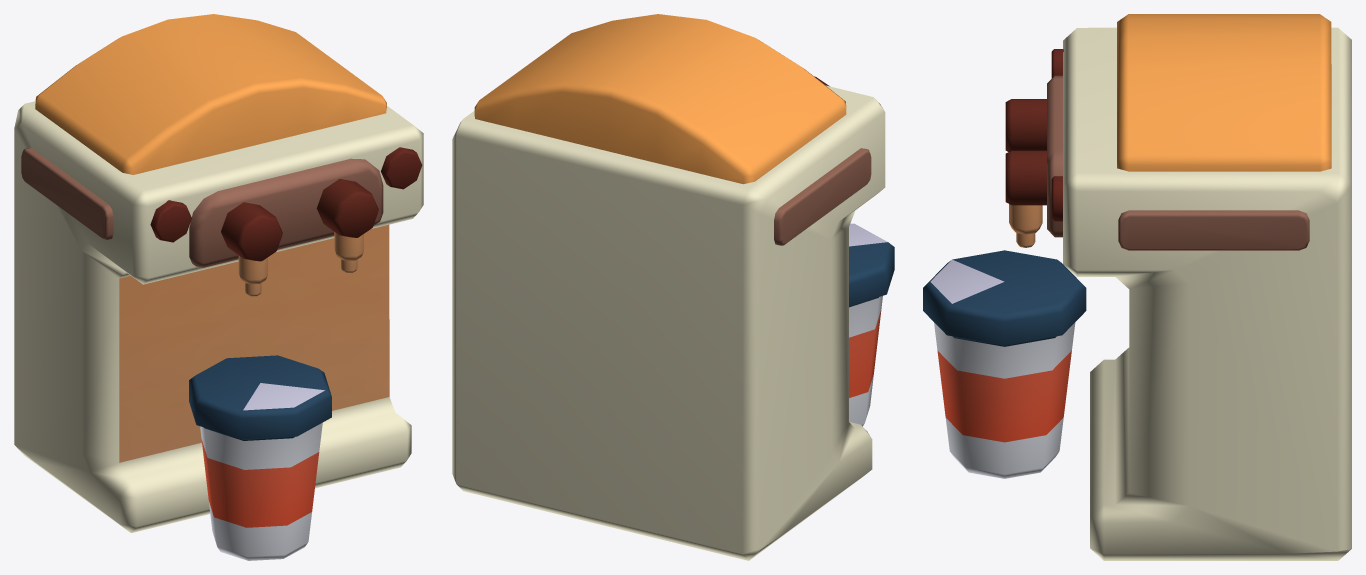
Rendered from water_machine_and_cup.fbx.
3 views of the same model, side by side, from view 1: azimuth 30°, elevation 25°; view 2: azimuth 150°, elevation 25°; view 3: azimuth 270°, elevation 25° (orthographic). The views are drawn at different scales.
Visible parts, largest first — view 1: pasted__cocktail_03, duplicated_01, coffee_cup, pasted__cocktail_02, pasted__cocktail_15, pasted__cocktail_13, pasted__cocktail_18, pasted__cocktail_19, pasted__cocktail_17, pasted__cocktail_21, mirrored_x_3; view 2: pasted__cocktail_03, duplicated_01, coffee_cup, pasted__cocktail_15; view 3: pasted__cocktail_03, duplicated_01, coffee_cup, pasted__cocktail_08, pasted__cocktail_18, pasted__cocktail_13, pasted__cocktail_02, mirrored_x_3, pasted__cocktail_17.
Part boxes in pixels (x1=…): pasted__cocktail_03: x1=14, y1=101, x2=423, y2=532; duplicated_01: x1=35, y1=14, x2=386, y2=174; coffee_cup: x1=189, y1=355, x2=331, y2=560; pasted__cocktail_02: x1=189, y1=158, x2=383, y2=267; pasted__cocktail_15: x1=21, y1=148, x2=113, y2=239; pasted__cocktail_13: x1=221, y1=202, x2=282, y2=261; pasted__cocktail_18: x1=316, y1=179, x2=378, y2=237; pasted__cocktail_19: x1=150, y1=200, x2=191, y2=242; pasted__cocktail_17: x1=381, y1=147, x2=422, y2=189; pasted__cocktail_21: x1=238, y1=255, x2=267, y2=296; mirrored_x_3: x1=334, y1=232, x2=363, y2=272; pasted__cocktail_03: x1=452, y1=27, x2=885, y2=560; duplicated_01: x1=474, y1=14, x2=846, y2=184; coffee_cup: x1=849, y1=223, x2=894, y2=426; pasted__cocktail_15: x1=774, y1=148, x2=871, y2=245; pasted__cocktail_03: x1=1063, y1=27, x2=1351, y2=560; duplicated_01: x1=1117, y1=14, x2=1331, y2=171; coffee_cup: x1=923, y1=250, x2=1086, y2=478; pasted__cocktail_08: x1=1118, y1=210, x2=1309, y2=250; pasted__cocktail_18: x1=1005, y1=150, x2=1046, y2=205; pasted__cocktail_13: x1=1005, y1=99, x2=1046, y2=151; pasted__cocktail_02: x1=1047, y1=75, x2=1062, y2=237; mirrored_x_3: x1=1009, y1=204, x2=1042, y2=247; pasted__cocktail_17: x1=1051, y1=176, x2=1062, y2=221.
Bounding box in the file's own units: 2.03 × 2.59 × 2.23.
